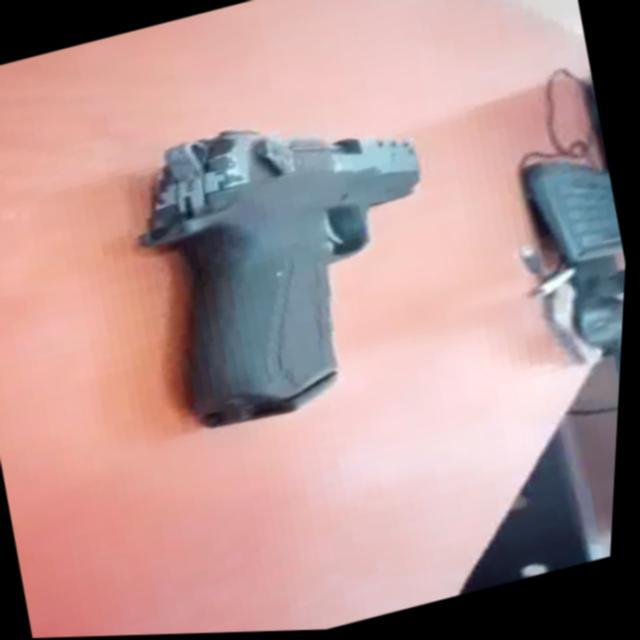weapon: (112, 82, 473, 444)
